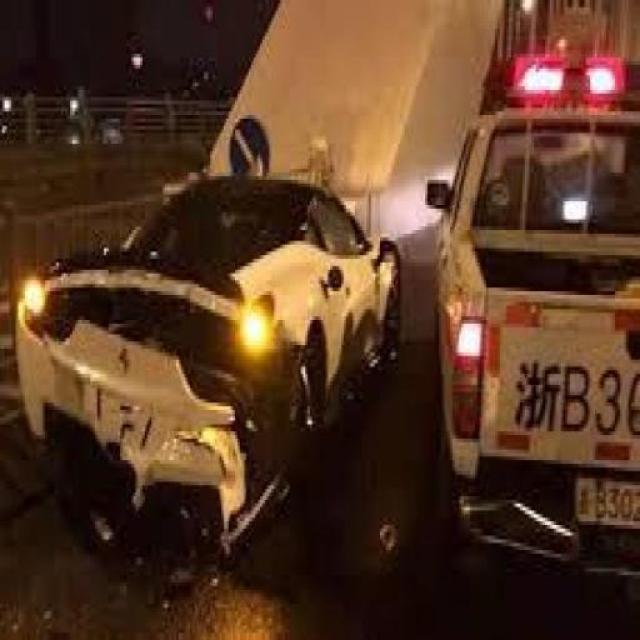crush: (26, 262, 305, 533)
